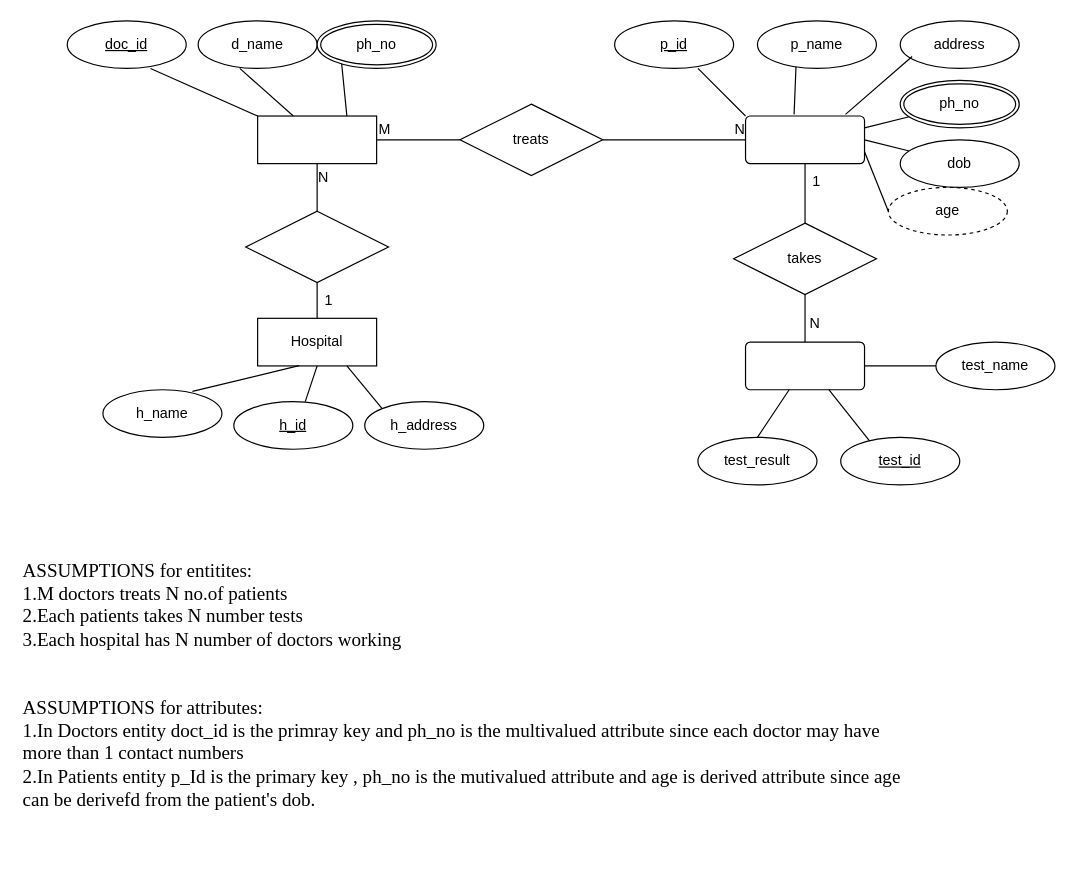
The diagram is 1076 pixels wide and 870 high, and some of its shapes have lost their labels. Here are the shapes that lost their labels. From the top down, the box of each, then its label:
(256, 115, 377, 164): Doctors
(744, 115, 865, 164): Patients
(245, 210, 389, 283): has
(744, 341, 865, 390): test
